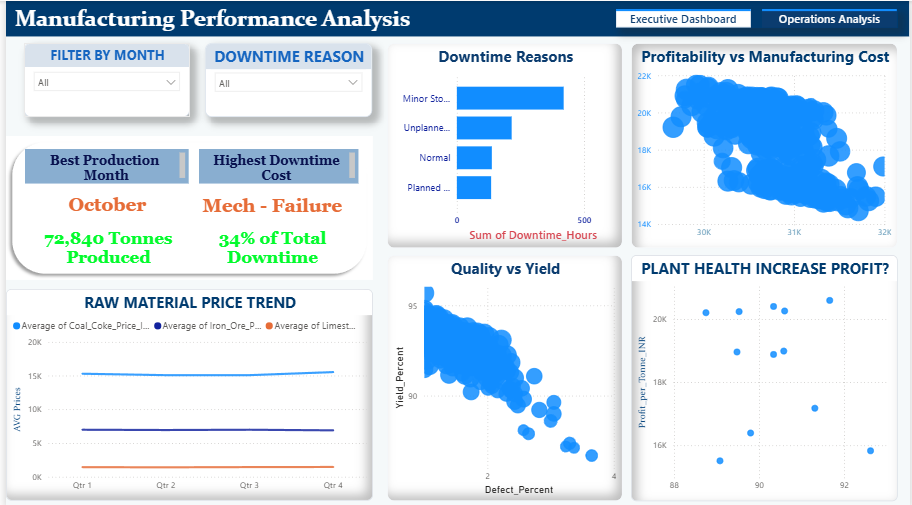

What the dashboard file says about the page in this screenshot:
{"tool":"powerbi","page":{"name":"Operations Analysis","canvas":[1280,720],"ordinal":1},"visuals":[{"type":"shape","box":[0,0,1279.8,50],"z":0},{"type":"slicer","title":"FILTER BY MONTH","fields":{"Values":["steel monthly_raw_material_prices_2025.Month"]},"box":[25.7,60,235.3,104.9],"z":0,"group":"g1"},{"type":"textbox","box":[0,0,1279.8,50],"z":1000},{"type":"slicer","title":"DOWNTIME REASON","fields":{"Values":["steel daily_steel_plant_kpi_2025.Downtime_Primary_Reason"]},"box":[282.2,60,236.7,104.9],"z":1000,"group":"g1"},{"type":"group","id":"g1","title":"Group 2","box":[25.7,60,492.9,104.3],"z":2000},{"type":"pageNavigator","box":[864.6,11.3,399.7,26.9],"z":3000},{"type":"scatterChart","title":"Profitability vs Manufacturing Cost","fields":{"X":["steel daily_steel_plant_kpi_2025.Manufacturing_Cost_per_Tonne_INR"],"Y":["steel daily_steel_plant_kpi_2025.Profit_per_Tonne_INR"],"Size":["Sum(steel daily_steel_plant_kpi_2025.Production_Tonnes)"]},"box":[885.8,59.5,378.4,290.6],"z":4000},{"type":"scatterChart","title":"Quality vs Yield","fields":{"X":["steel daily_steel_plant_kpi_2025.Defect_Percent"],"Y":["steel daily_steel_plant_kpi_2025.Yield_Percent"],"Size":["Sum(steel daily_steel_plant_kpi_2025.Production_Tonnes)"]},"box":[540,360,334.5,348.7],"z":5000},{"type":"clusteredBarChart","title":"Downtime Reasons","fields":{"Category":["steel daily_steel_plant_kpi_2025.Downtime_Primary_Reason"],"Y":["Sum(steel daily_steel_plant_kpi_2025.Downtime_Hours)"]},"box":[540,59.5,334.5,290.6],"z":6000},{"type":"scatterChart","title":"PLANT HEALTH INCREASE PROFIT?","fields":{"X":["Monthly_Summary.Plant_Health_Score"],"Y":["Monthly_Summary.Profit_per_Tonne_INR"]},"box":[885.8,360,378.4,348.7],"z":7000},{"type":"lineChart","title":"RAW MATERIAL PRICE TREND","fields":{"Category":["steel monthly_raw_material_prices_2025.Month.Variation.Date Hierarchy.Quarter","steel monthly_raw_material_prices_2025.Month.Variation.Date Hierarchy.Month"],"Y":["Avg(steel monthly_raw_material_prices_2025.Coal_Coke_Price_INR_per_Tonne)","Avg(steel monthly_raw_material_prices_2025.Iron_Ore_Price_INR_per_Tonne)","Avg(steel monthly_raw_material_prices_2025.Limestone_Price_INR_per_Tonne)"]},"box":[0,408.2,520.2,300.5],"z":8000},{"type":"shape","box":[0,191.3,520.2,204.1],"z":9000},{"type":"textbox","box":[27.3,209.1,232.3,49.5],"z":10000},{"type":"textbox","box":[64.6,269.7,156.6,46.5],"z":11000},{"type":"textbox","box":[273.7,209.1,226.3,49.5],"z":12000},{"type":"textbox","box":[262.6,270.7,230.3,46.5],"z":13000},{"type":"textbox","box":[40.4,318.2,208.1,64.6],"z":14000},{"type":"textbox","box":[273.5,317.5,208.3,65.2],"z":15000}]}

Visuals, with their boxes in screenshot pixels (x1, y1, x2, y2), scaled from the page's 1280x720 canvas onto the 912x505 screenshot:
shape: {"x1": 0, "y1": 0, "x2": 911, "y2": 35}
"FILTER BY MONTH" slicer: {"x1": 18, "y1": 42, "x2": 186, "y2": 116}
textbox: {"x1": 0, "y1": 0, "x2": 911, "y2": 35}
"DOWNTIME REASON" slicer: {"x1": 201, "y1": 42, "x2": 370, "y2": 116}
"Group 2" group: {"x1": 18, "y1": 42, "x2": 370, "y2": 115}
pageNavigator: {"x1": 616, "y1": 8, "x2": 901, "y2": 27}
"Profitability vs Manufacturing Cost" scatterChart: {"x1": 631, "y1": 42, "x2": 901, "y2": 246}
"Quality vs Yield" scatterChart: {"x1": 385, "y1": 252, "x2": 623, "y2": 497}
"Downtime Reasons" clusteredBarChart: {"x1": 385, "y1": 42, "x2": 623, "y2": 246}
"PLANT HEALTH INCREASE PROFIT?" scatterChart: {"x1": 631, "y1": 252, "x2": 901, "y2": 497}
"RAW MATERIAL PRICE TREND" lineChart: {"x1": 0, "y1": 286, "x2": 371, "y2": 497}
shape: {"x1": 0, "y1": 134, "x2": 371, "y2": 277}
textbox: {"x1": 19, "y1": 147, "x2": 185, "y2": 181}
textbox: {"x1": 46, "y1": 189, "x2": 158, "y2": 222}
textbox: {"x1": 195, "y1": 147, "x2": 356, "y2": 181}
textbox: {"x1": 187, "y1": 190, "x2": 351, "y2": 222}
textbox: {"x1": 29, "y1": 223, "x2": 177, "y2": 268}
textbox: {"x1": 195, "y1": 223, "x2": 343, "y2": 268}
